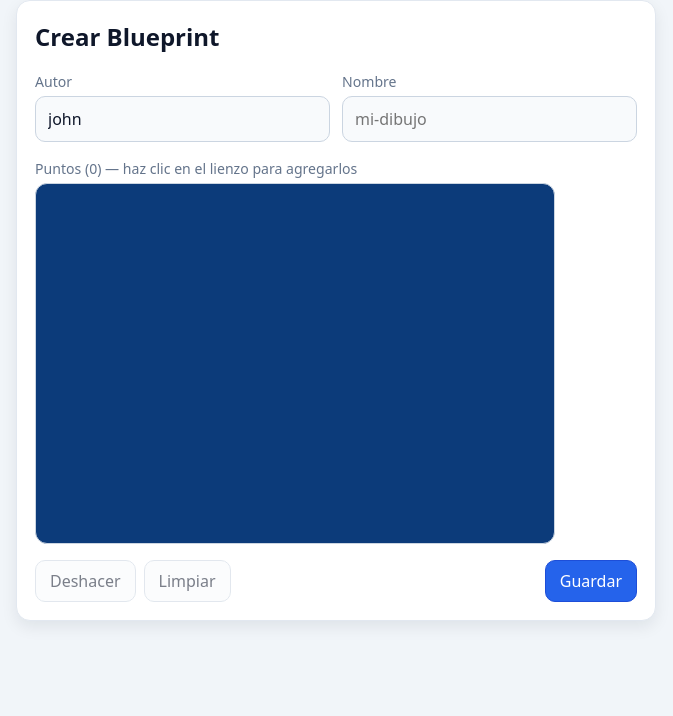
Test case: CreateBlueprintPage › muestra el error del backend si el plano ya existe
Type "house" into the field labelled "Nombre".
click(490, 119); type("house")  # box left=342, top=96, right=637, bottom=142
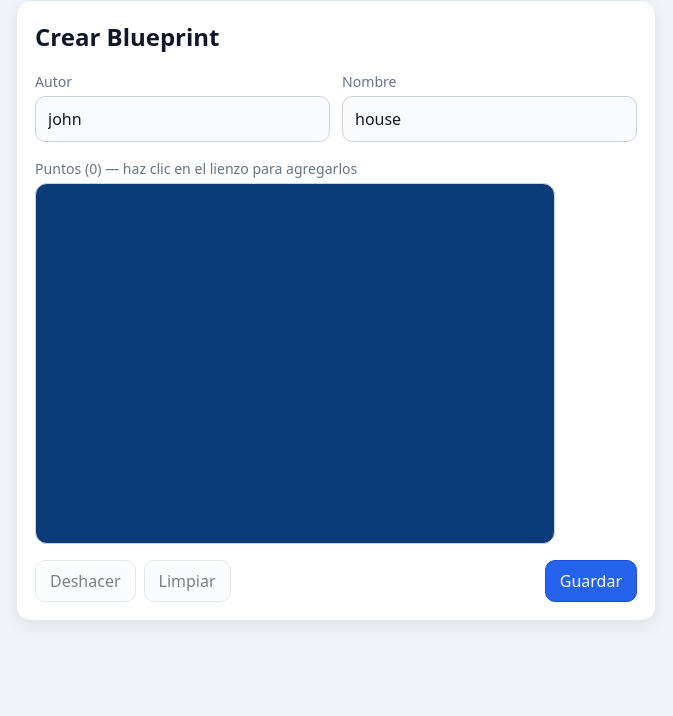
Click the picture with test id "blueprint-canvas".
click(295, 364)  # box left=35, top=183, right=555, bottom=544
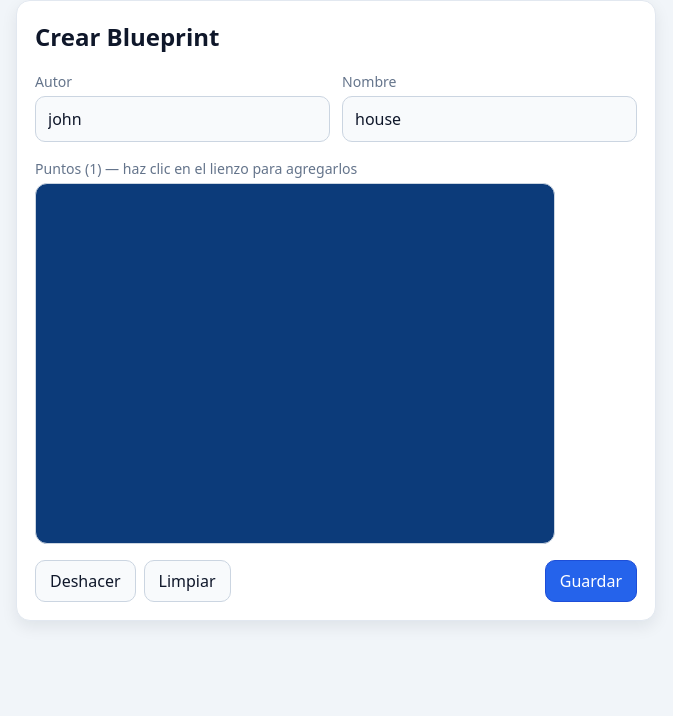
Click the button "Guardar".
click(591, 581)  # box left=545, top=560, right=637, bottom=602
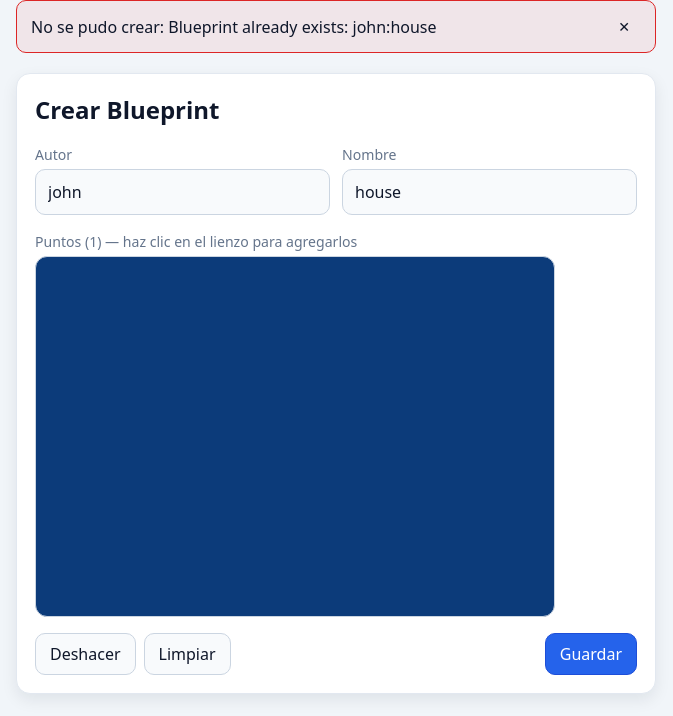
Expected: the message shows "already exists", left=31, top=16, right=436, bottom=38
